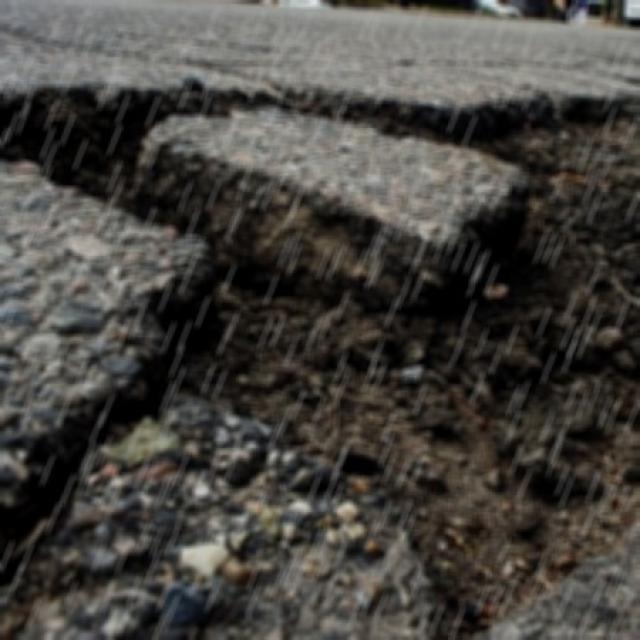road-pothole: (0, 79, 639, 639)
